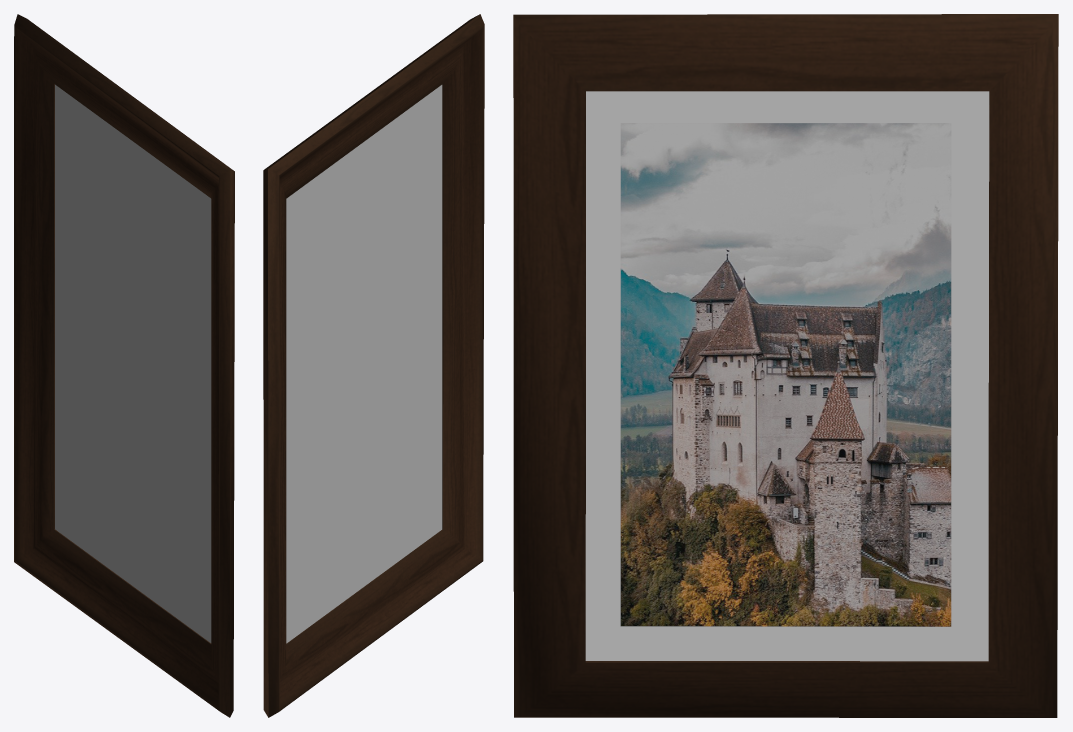
The model's file is SM_Photo_A2.fbx.
The picture shows the model from 3 angles, left to right: view 1: azimuth 30°, elevation 25°; view 2: azimuth 150°, elevation 25°; view 3: azimuth 270°, elevation 25°; orthographic projection. The views are drawn at different scales.
Visible parts, largest first — view 1: SM_Photo_A2; view 2: SM_Photo_A2; view 3: SM_Photo_A2.
Part boxes in pixels (box(x1,y1,x2,y2)): SM_Photo_A2: box(14, 14, 234, 717); SM_Photo_A2: box(263, 14, 484, 717); SM_Photo_A2: box(513, 14, 1058, 717).
Size of the model in its own units: 1.51 by 23.08 by 32.9.
3 materials, 2 textured.
